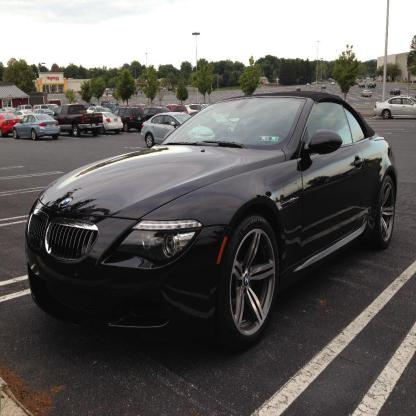Car: (0, 76, 416, 350)
